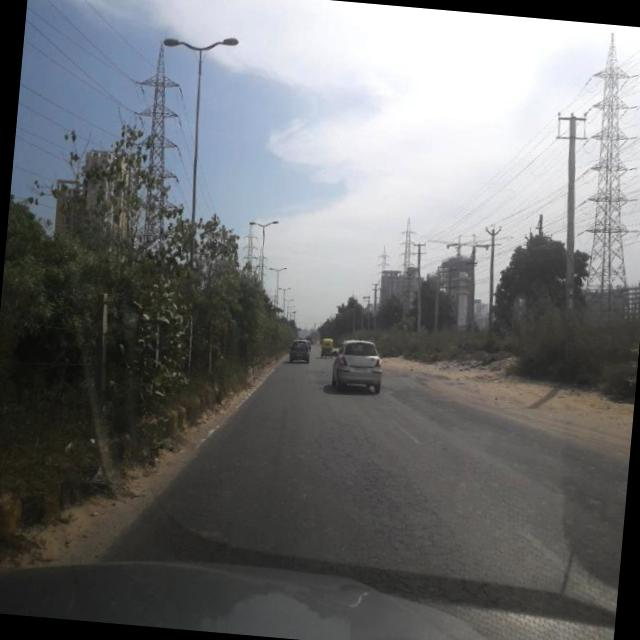crack: (124, 387, 632, 600)
